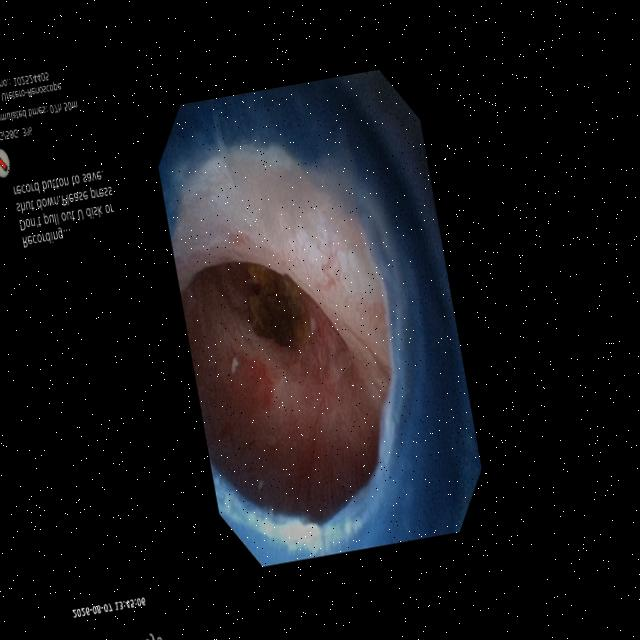stone-new: (248, 264, 309, 348)
